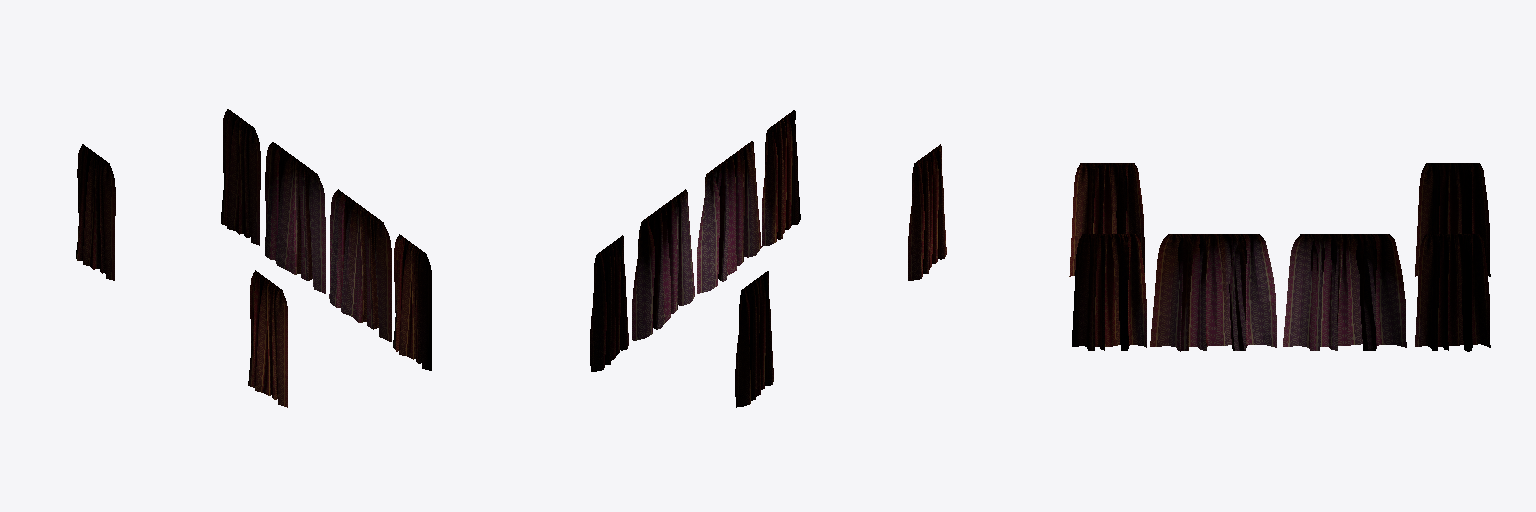
The picture shows the model from 3 angles: view 1: azimuth 30°, elevation 25°; view 2: azimuth 150°, elevation 25°; view 3: azimuth 270°, elevation 25°; orthographic projection.
Parts seen in each view (by area): view 1: curtains3 group5 BakedQuadGeos; view 2: curtains3 group5 BakedQuadGeos; view 3: curtains3 group5 BakedQuadGeos.
Part boxes in pixels (x1,y1,x2,y2): curtains3 group5 BakedQuadGeos: (76,109,431,407); curtains3 group5 BakedQuadGeos: (590,110,946,407); curtains3 group5 BakedQuadGeos: (1069,163,1490,351).
Size of the model in its own units: 3.35 by 2.26 by 7.56.
Materials: 1 (1 with a texture image).